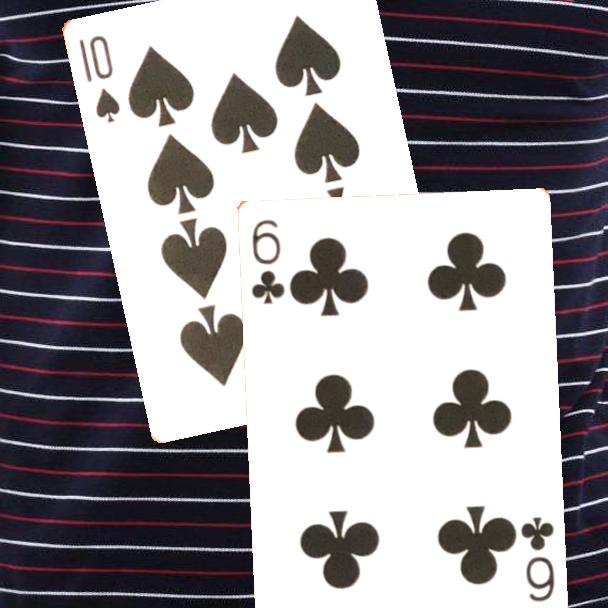c06: (517, 513, 557, 604), (248, 215, 287, 307)
s10: (75, 31, 123, 126)
